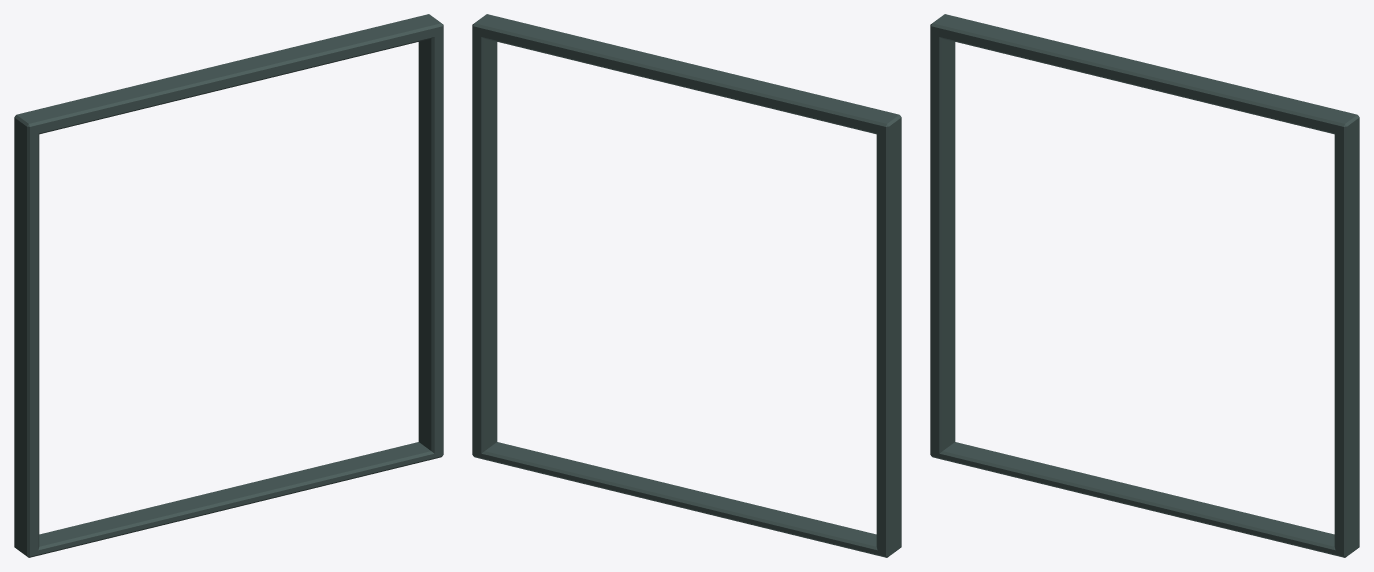
File: SM_MP_Corridor_Rib.fbx
The picture shows the model from 3 angles, left to right: view 1: azimuth 30°, elevation 25°; view 2: azimuth 150°, elevation 25°; view 3: azimuth 330°, elevation 25°; orthographic projection.
Visible parts, largest first — view 1: SM_MP_Corridor_Rib; view 2: SM_MP_Corridor_Rib; view 3: SM_MP_Corridor_Rib.
Part boxes in pixels (x1=…): SM_MP_Corridor_Rib: x1=14, y1=14, x2=443, y2=557; SM_MP_Corridor_Rib: x1=472, y1=14, x2=901, y2=557; SM_MP_Corridor_Rib: x1=930, y1=14, x2=1359, y2=557.
Size of the model in its own units: 402 by 25 by 400.
Materials: 1 (1 with a texture image).
